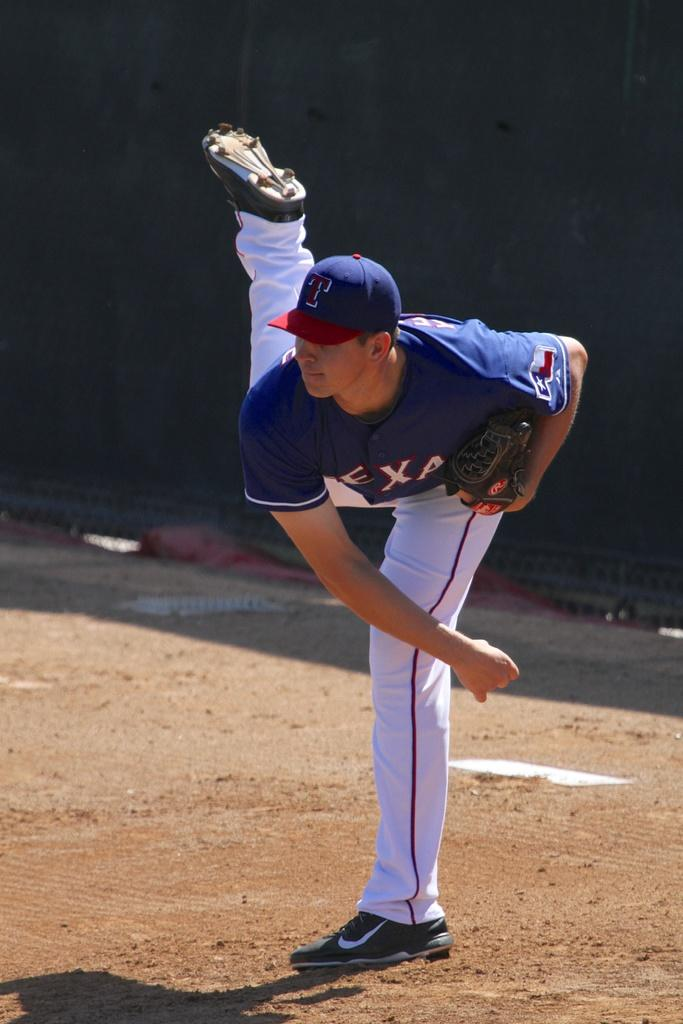Hat: (268, 252, 400, 346)
